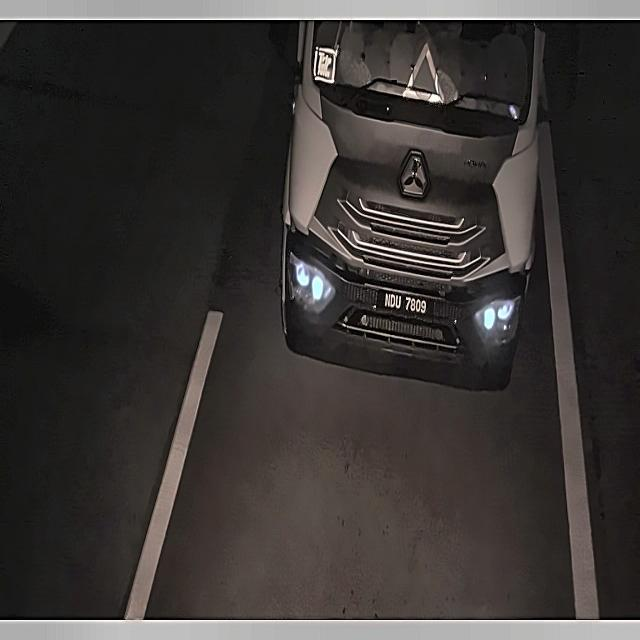car: (372, 279, 438, 322)
